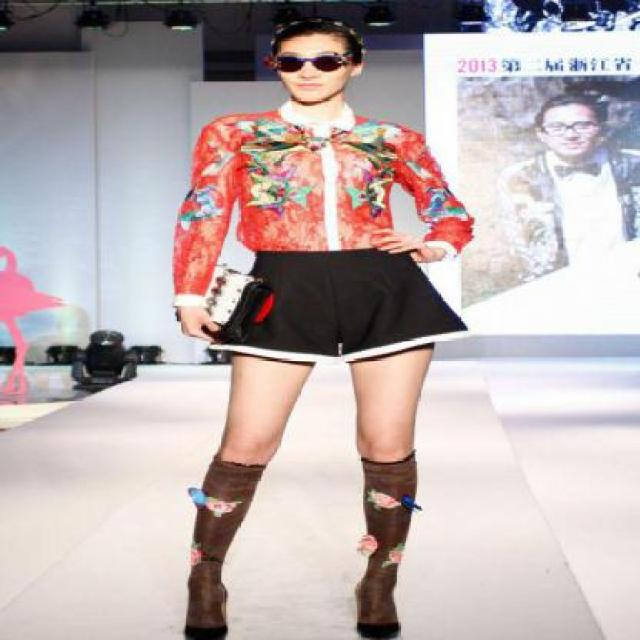Person: (133, 19, 475, 638)
